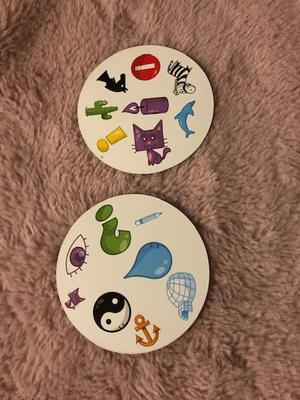ancre: (130, 310, 162, 347)
bougie: (123, 94, 170, 120)
cactus: (85, 98, 122, 124)
chat: (128, 119, 171, 165), (62, 285, 86, 311)
cheval: (95, 70, 129, 98)
crayon: (133, 212, 162, 228)
dauphin: (171, 100, 199, 143)
goutte: (122, 240, 172, 282)
igloo: (164, 270, 197, 319)
oeuil: (63, 232, 92, 279)
point_exclamation: (93, 123, 127, 154)
point_interrogation: (95, 202, 131, 258)
sens_interdit: (130, 53, 163, 84)
ying_yang: (92, 288, 132, 334)
zebre: (166, 57, 197, 96)
